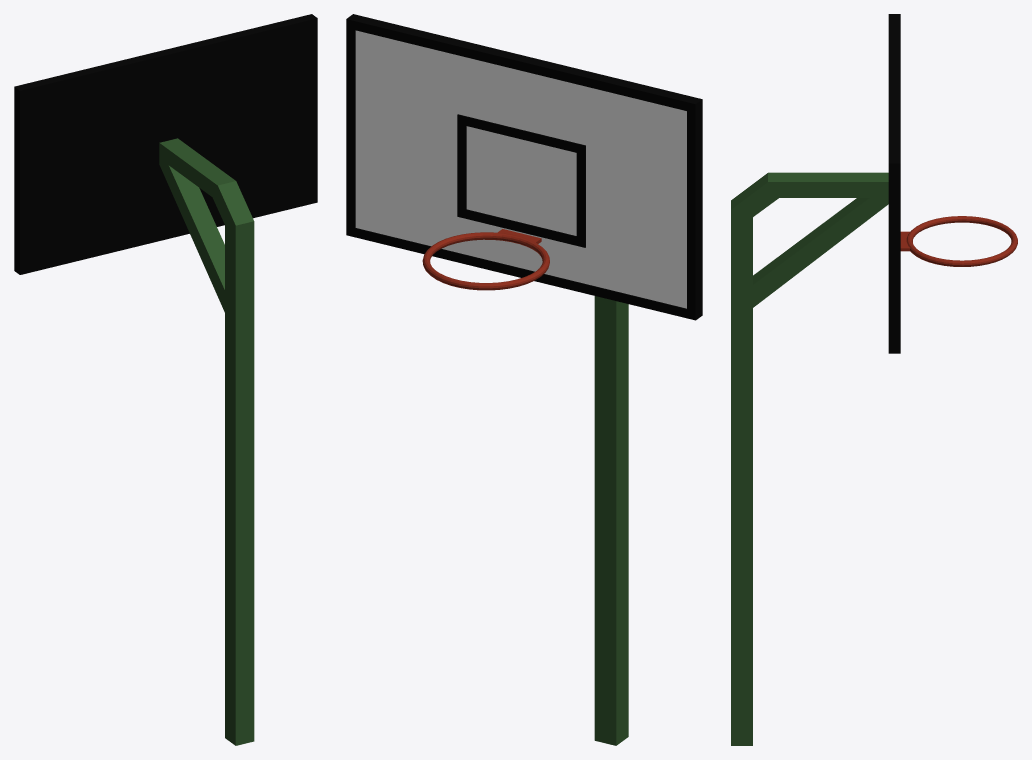
Rendered from cesta-basquete.fbx.
3 views of the same model, side by side, from view 1: azimuth 30°, elevation 25°; view 2: azimuth 150°, elevation 25°; view 3: azimuth 270°, elevation 25° (orthographic). The views are drawn at different scales.
Visible parts, largest first — view 1: Torus; view 2: Torus; view 3: Torus.
Part boxes in pixels (x1,y1,x2,y2): Torus: (14, 14, 317, 745); Torus: (346, 14, 702, 745); Torus: (731, 14, 1017, 745).
Bounding box in the file's own units: 161 × 328 × 131.
